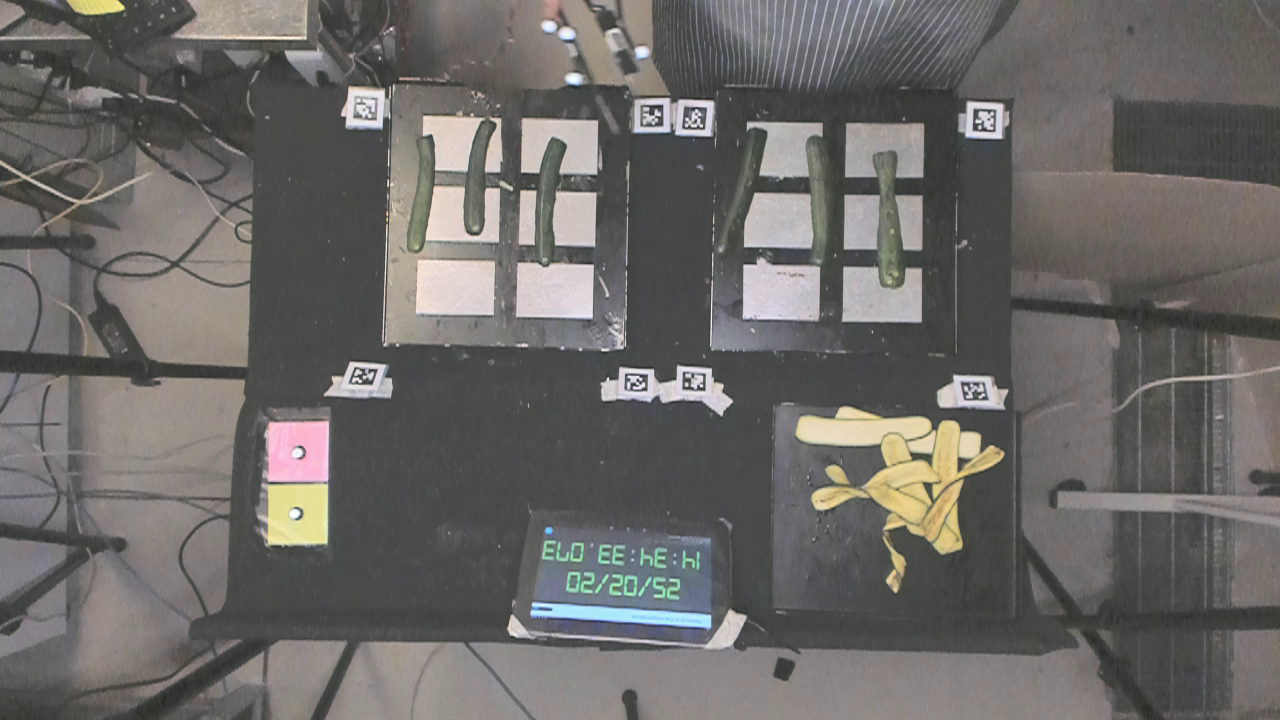marker: (265, 419, 331, 483)
zucchini: (863, 137, 911, 291), (799, 132, 849, 267), (823, 475, 937, 534), (720, 128, 767, 258), (933, 417, 969, 557), (464, 116, 499, 242), (796, 412, 929, 443), (535, 137, 564, 268), (407, 120, 433, 258)
